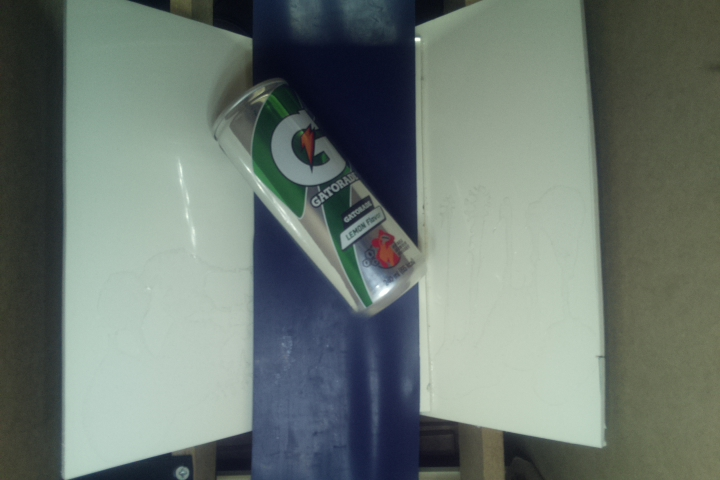can: (209, 78, 425, 321)
